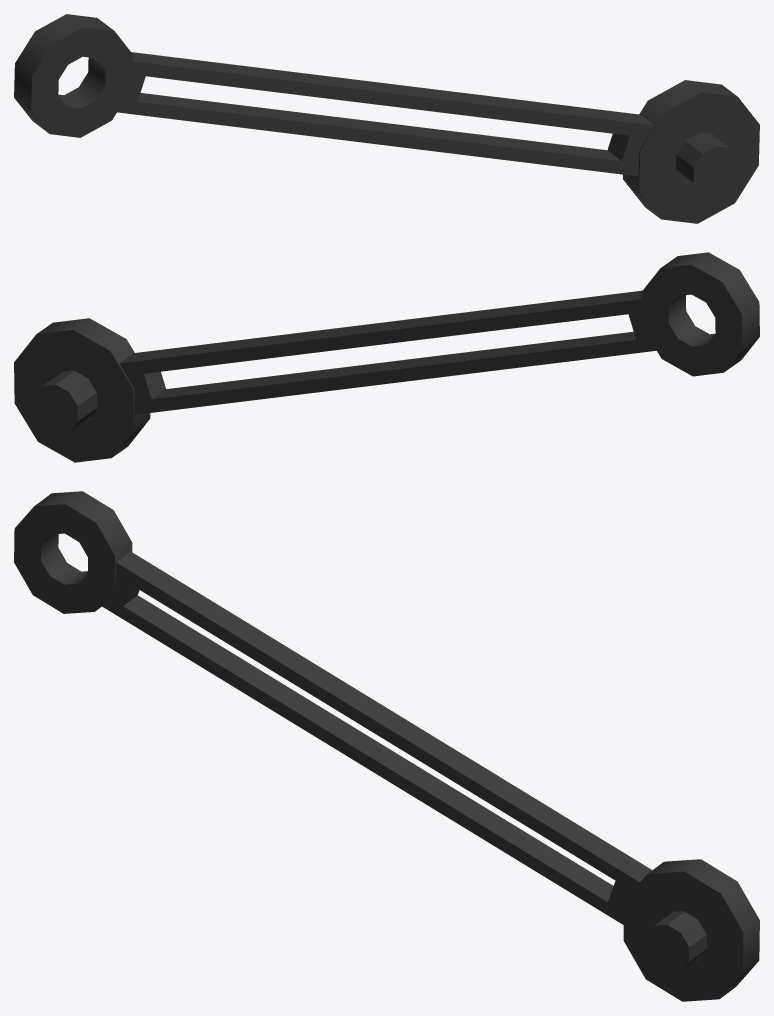
Rendered from valkyrium_engine_connection_rod_geo.obj.
3 renders of one model, top to bottom at view 1: azimuth 30°, elevation 25°; view 2: azimuth 150°, elevation 25°; view 3: azimuth 330°, elevation 25°, orthographic.
Parts seen in each view (by area): view 1: valkyrium_engine_connection_rod_geo; view 2: valkyrium_engine_connection_rod_geo; view 3: valkyrium_engine_connection_rod_geo.
Part boxes in pixels (<box>): valkyrium_engine_connection_rod_geo: <box>14,14,759,223</box>; valkyrium_engine_connection_rod_geo: <box>14,252,759,462</box>; valkyrium_engine_connection_rod_geo: <box>14,491,759,1001</box>.
Size of the model in its own units: 0.3996 by 0.1824 by 0.0483.
